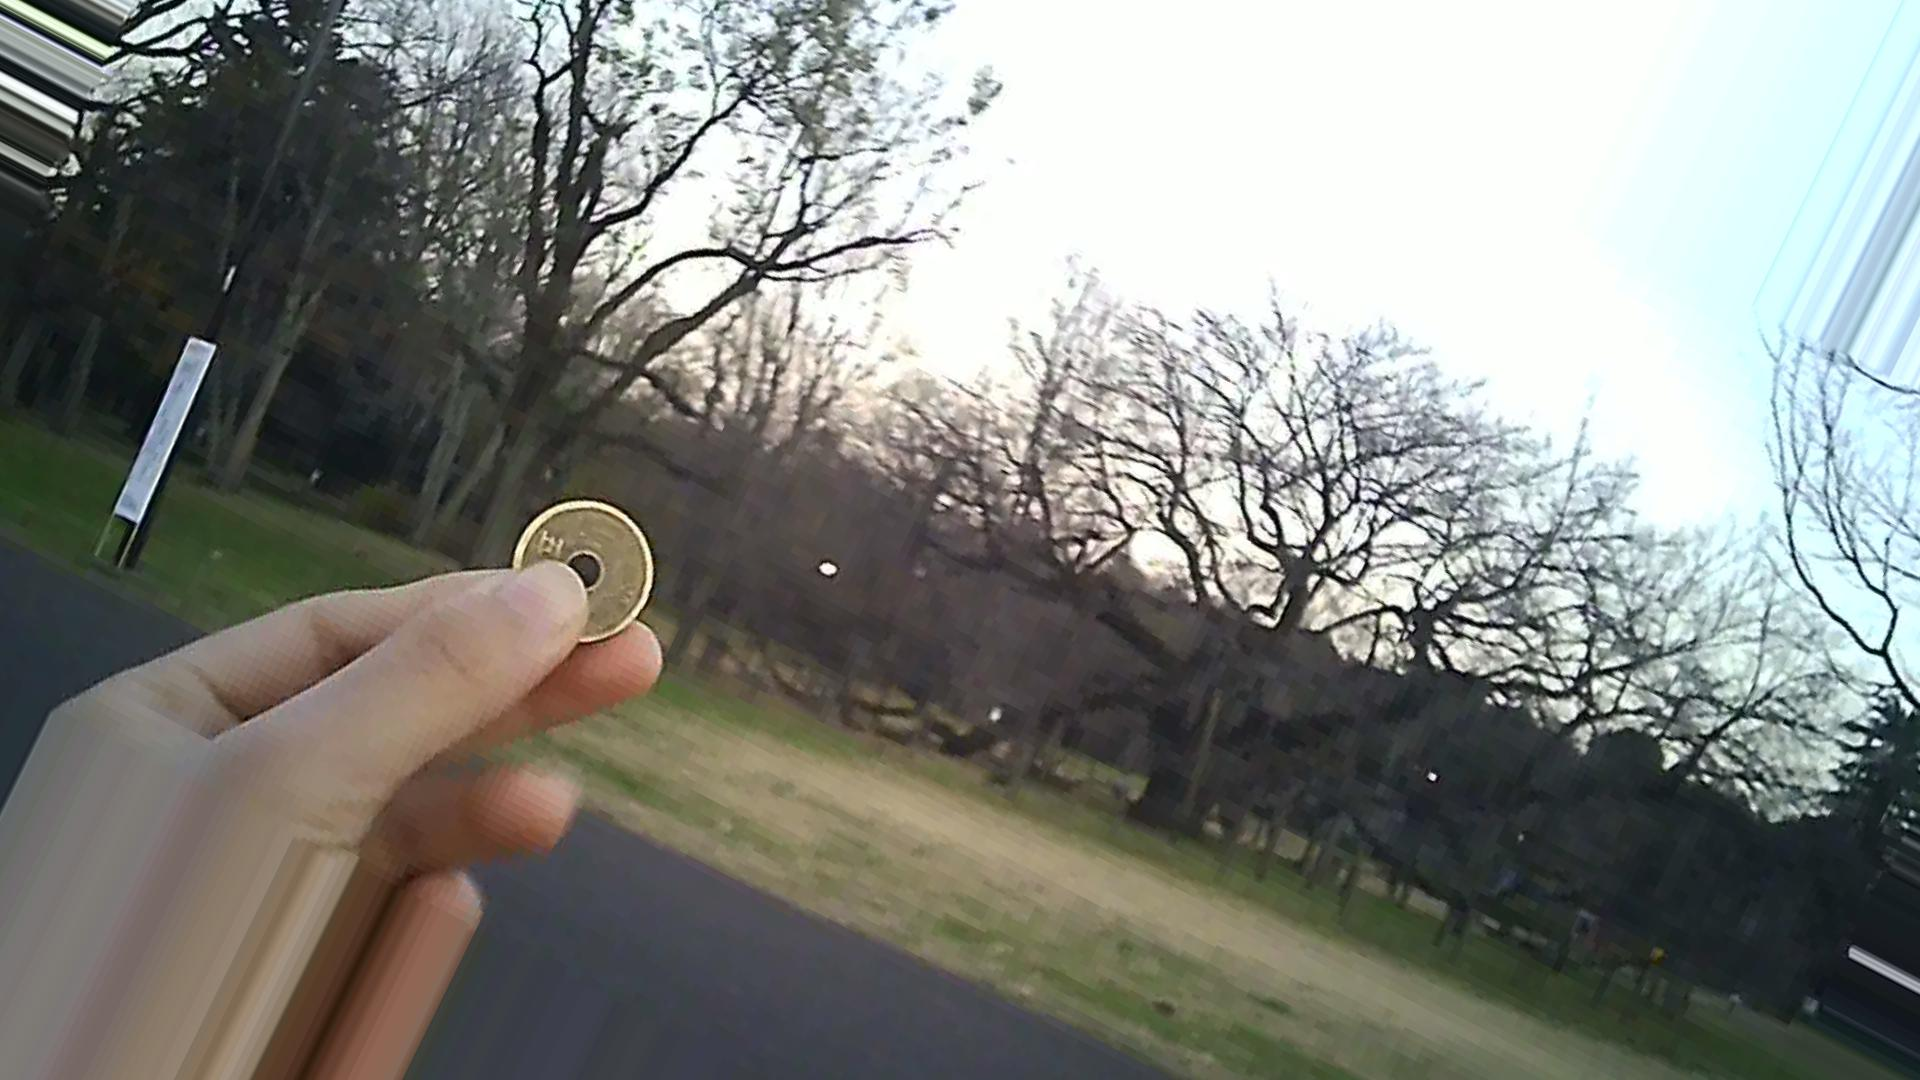5 Yen: (512, 491, 665, 647)
